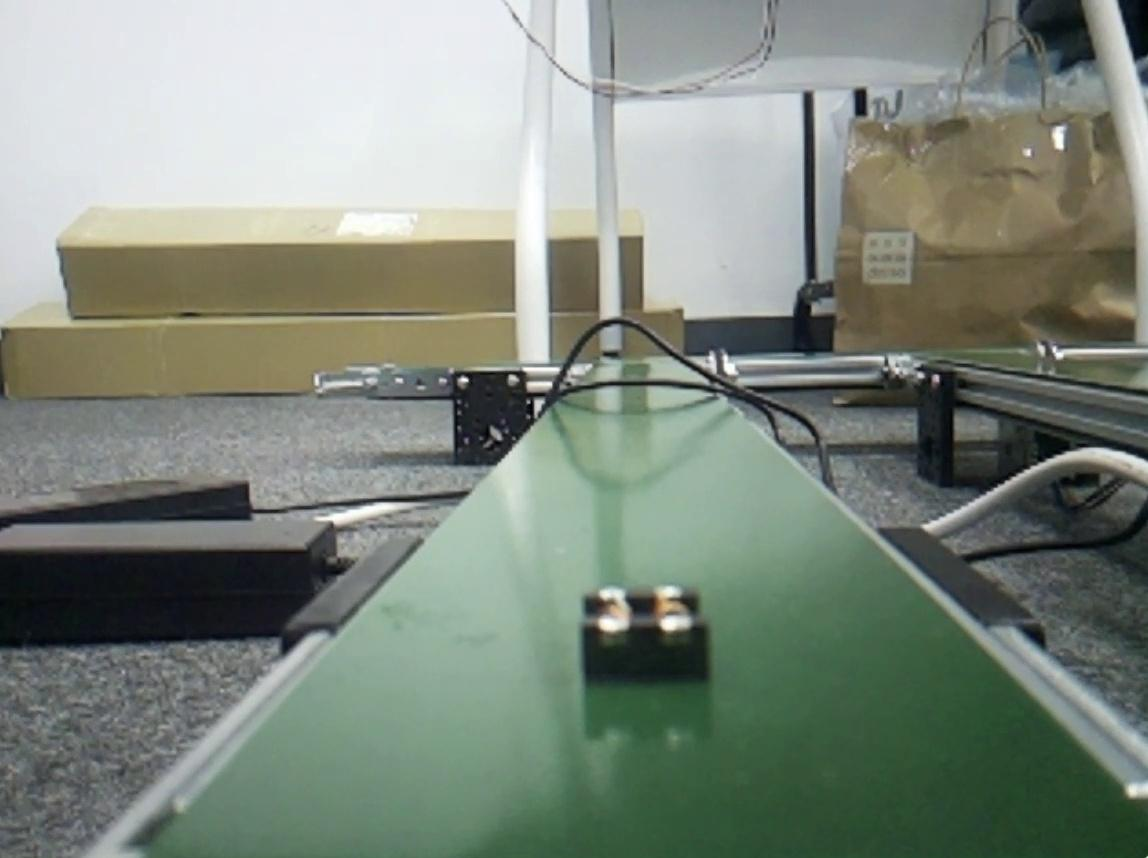inductor: (585, 587, 711, 682)
